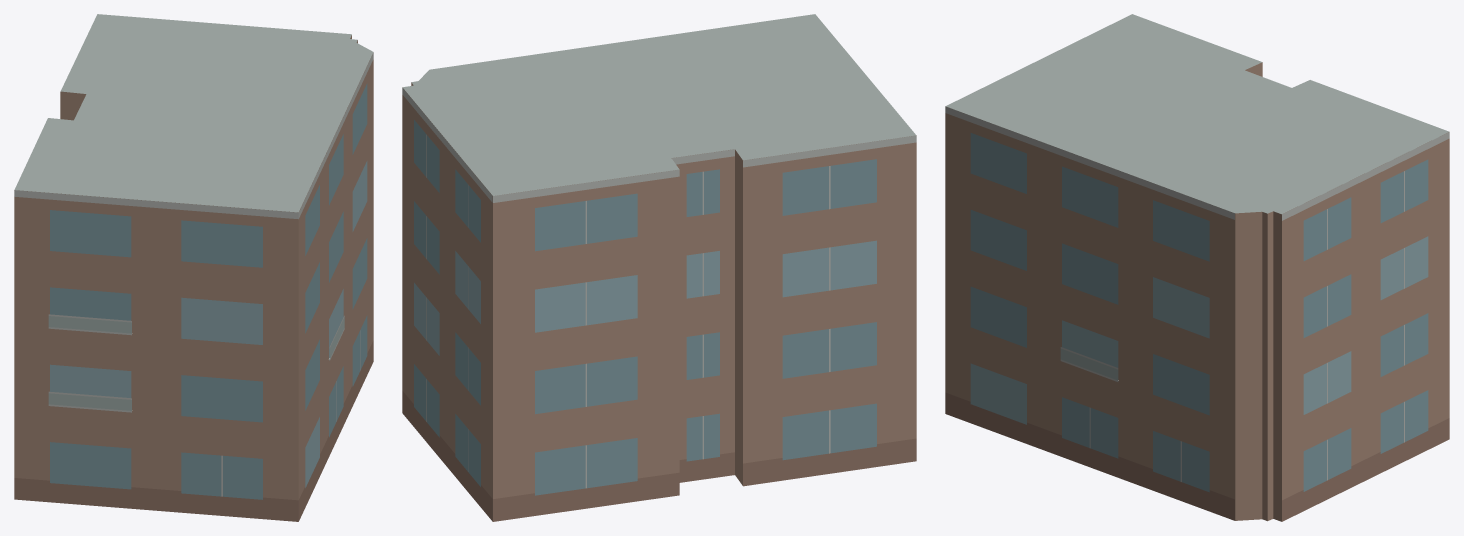
The model's file is survey-upis-32986789.glb.
3 views of the same model, side by side, from view 1: azimuth 30°, elevation 25°; view 2: azimuth 150°, elevation 25°; view 3: azimuth 270°, elevation 25° (orthographic). The views are drawn at different scales.
Visible parts, largest first — view 1: survey-upis-32986789.tmp; view 2: survey-upis-32986789.tmp; view 3: survey-upis-32986789.tmp.
Boxes of the visible parts, x1,y1,x2,y2 form: survey-upis-32986789.tmp: [14, 14, 373, 521]; survey-upis-32986789.tmp: [402, 14, 916, 521]; survey-upis-32986789.tmp: [945, 14, 1449, 521].
Bounding box in the file's own units: 15.65 × 11.2 × 16.65.
